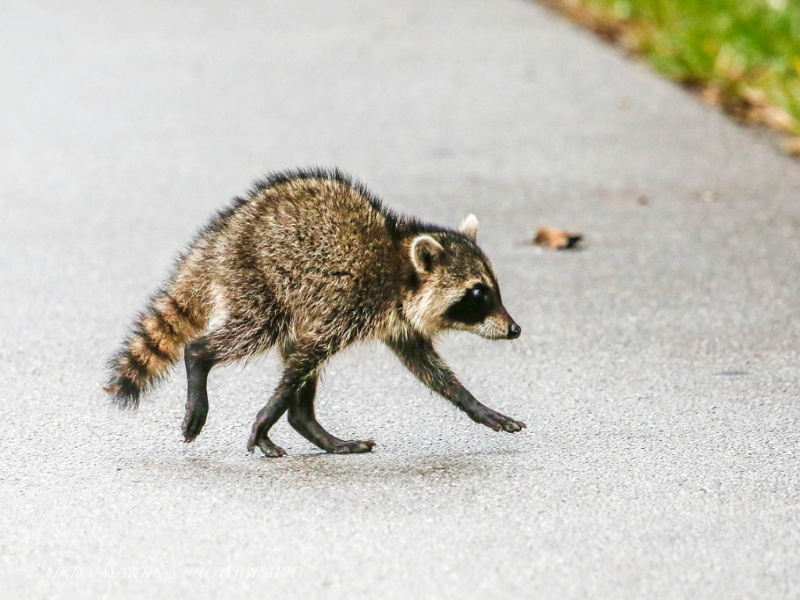raccoon: (97, 166, 547, 460)
